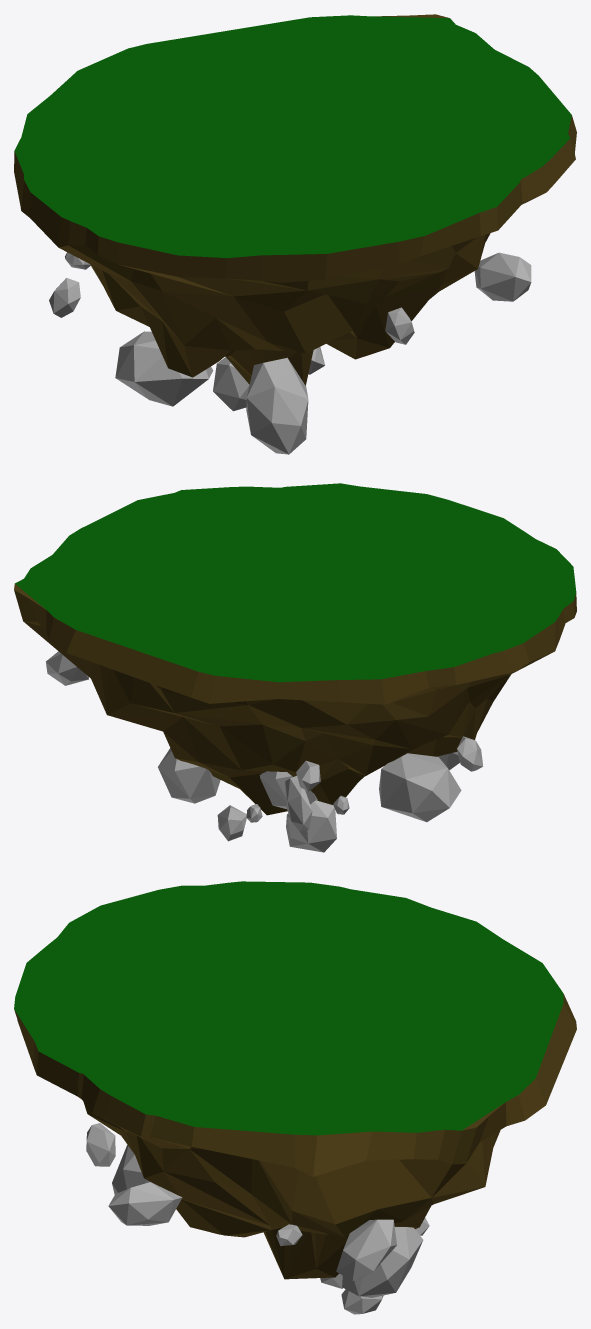
File: Ilo_plus_rock.fbx
3 views of the same model, one above another, from view 1: azimuth 30°, elevation 25°; view 2: azimuth 150°, elevation 25°; view 3: azimuth 270°, elevation 25° (orthographic). The views are drawn at different scales.
Visible parts, largest first — view 1: Ilot, polySurface7, polySurface2, polySurface5, polySurface1, polySurface9, polySurface8; view 2: Ilot, polySurface2, polySurface15, polySurface1, polySurface14, polySurface6, polySurface3, polySurface13, polySurface9, polySurface10; view 3: Ilot, polySurface15, polySurface3, polySurface5, polySurface8, polySurface7, polySurface13.
Boxes of the visible parts, <box> form: Ilot: <box>14,14,576,385</box>; polySurface7: <box>246,357,308,454</box>; polySurface2: <box>115,331,213,406</box>; polySurface5: <box>474,252,531,301</box>; polySurface1: <box>213,357,249,411</box>; polySurface9: <box>49,278,80,317</box>; polySurface8: <box>385,307,414,344</box>; Ilot: <box>14,483,576,815</box>; polySurface2: <box>379,753,461,822</box>; polySurface15: <box>158,748,220,803</box>; polySurface1: <box>286,800,336,852</box>; polySurface14: <box>285,775,312,831</box>; polySurface6: <box>259,771,317,809</box>; polySurface3: <box>46,651,88,685</box>; polySurface13: <box>217,805,246,841</box>; polySurface9: <box>457,736,483,771</box>; polySurface10: <box>296,760,320,791</box>; Ilot: <box>14,881,576,1279</box>; polySurface15: <box>342,1227,423,1297</box>; polySurface3: <box>336,1219,396,1280</box>; polySurface5: <box>108,1182,182,1225</box>; polySurface8: <box>86,1123,115,1166</box>; polySurface7: <box>112,1145,149,1194</box>; polySurface13: <box>341,1289,383,1314</box>.
Size of the model in its own units: 307 by 156 by 277.
